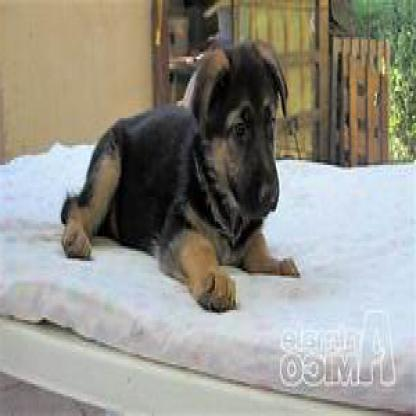dog: (57, 47, 299, 310)
